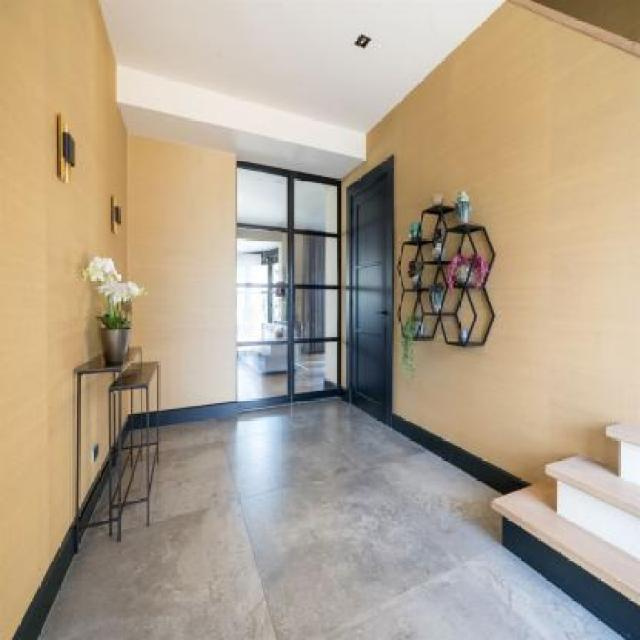floor: (37, 398, 630, 640)
